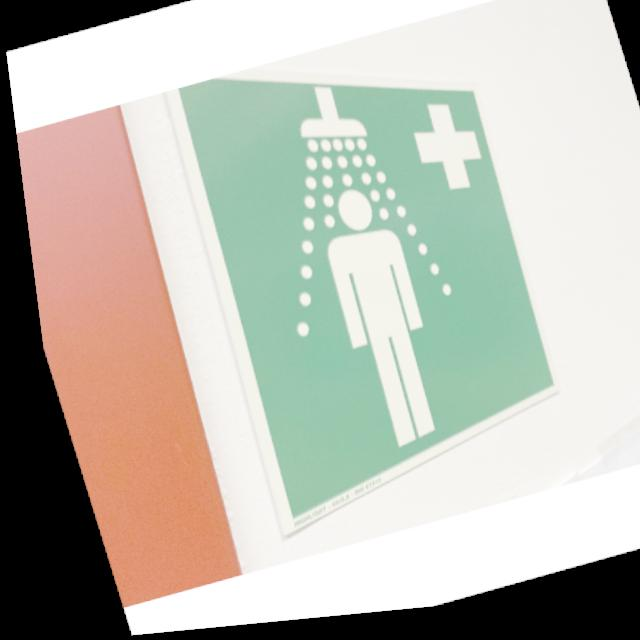shower: (140, 15, 580, 547)
